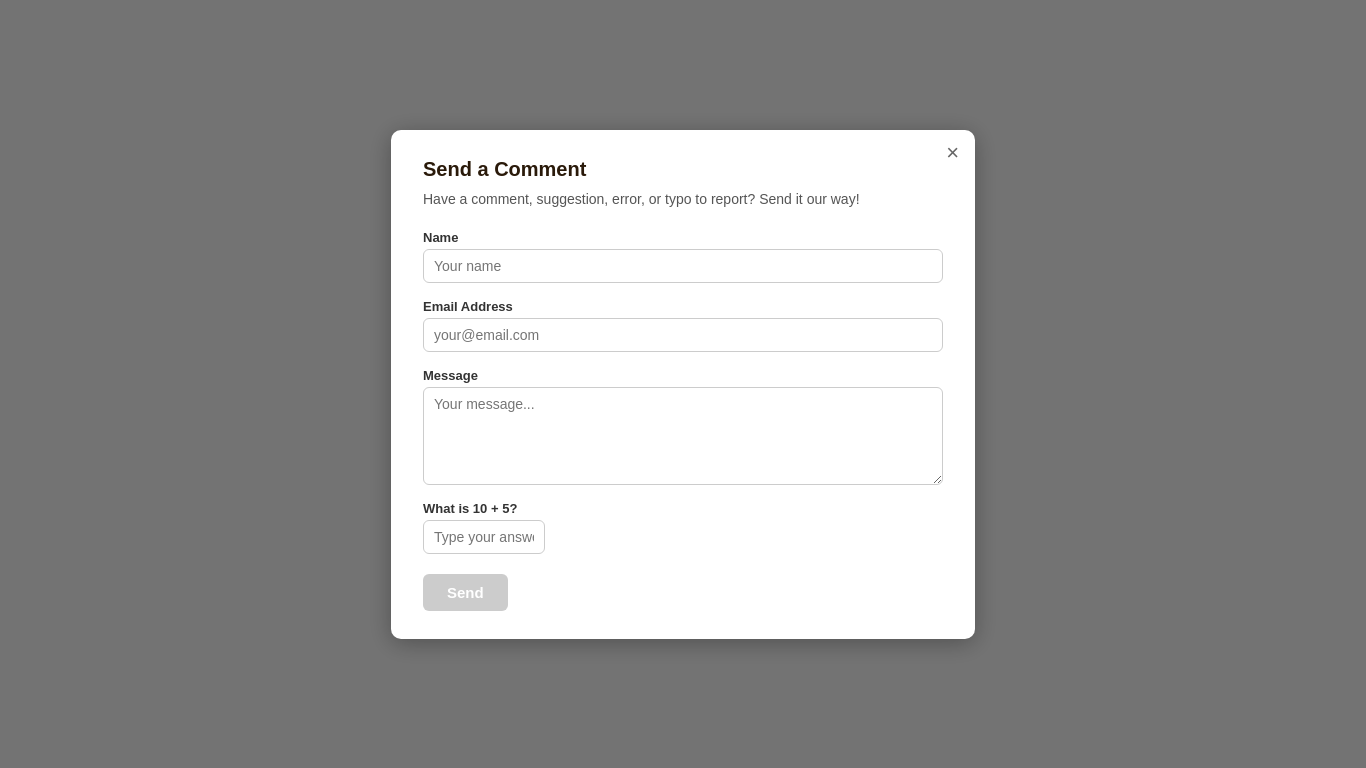
it: shows a generic error message on a failed response with no error body
The image size is (1366, 768).
Type "Drizzt" into the field labelled "Name" at x=683, y=266, box [423,248,943,282]
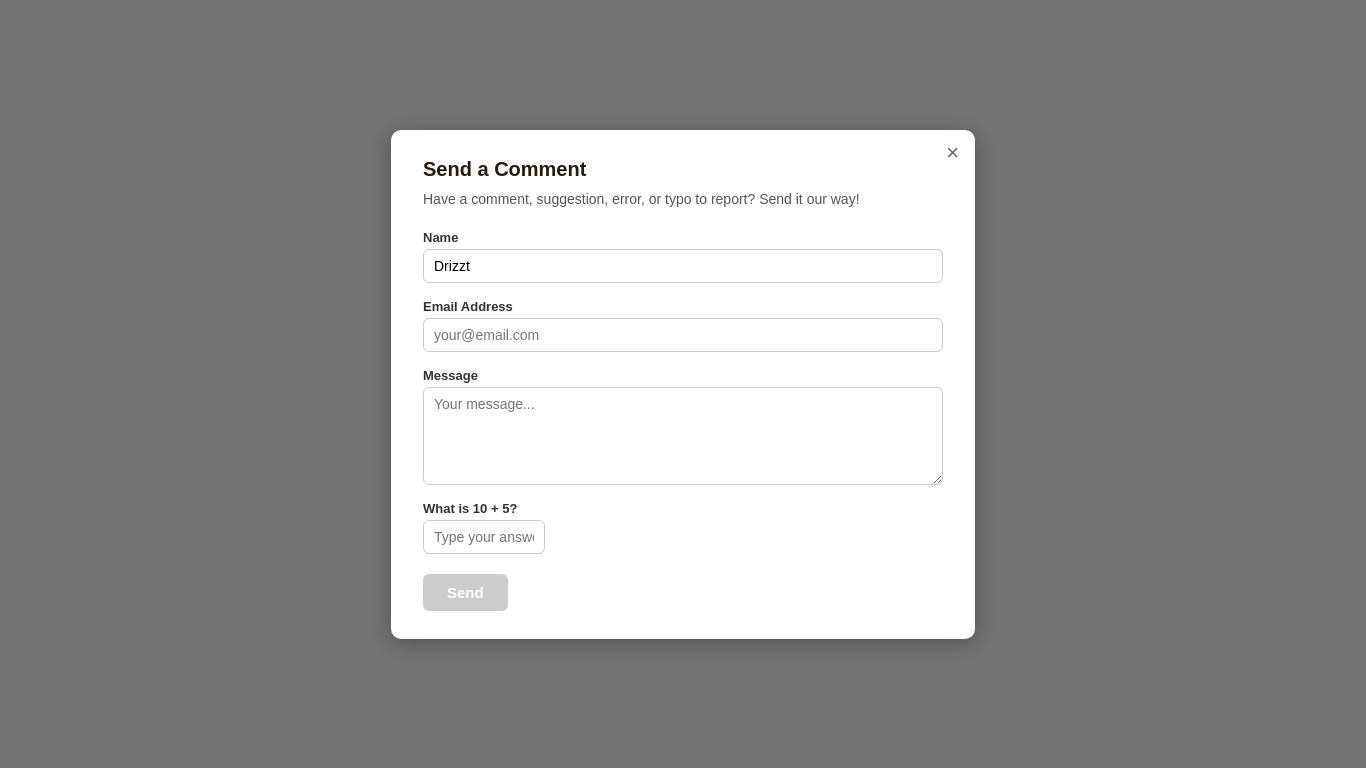
Type "drizzt@menzo.com" into the field labelled "Email Address" at x=683, y=334, box [423,318,943,352]
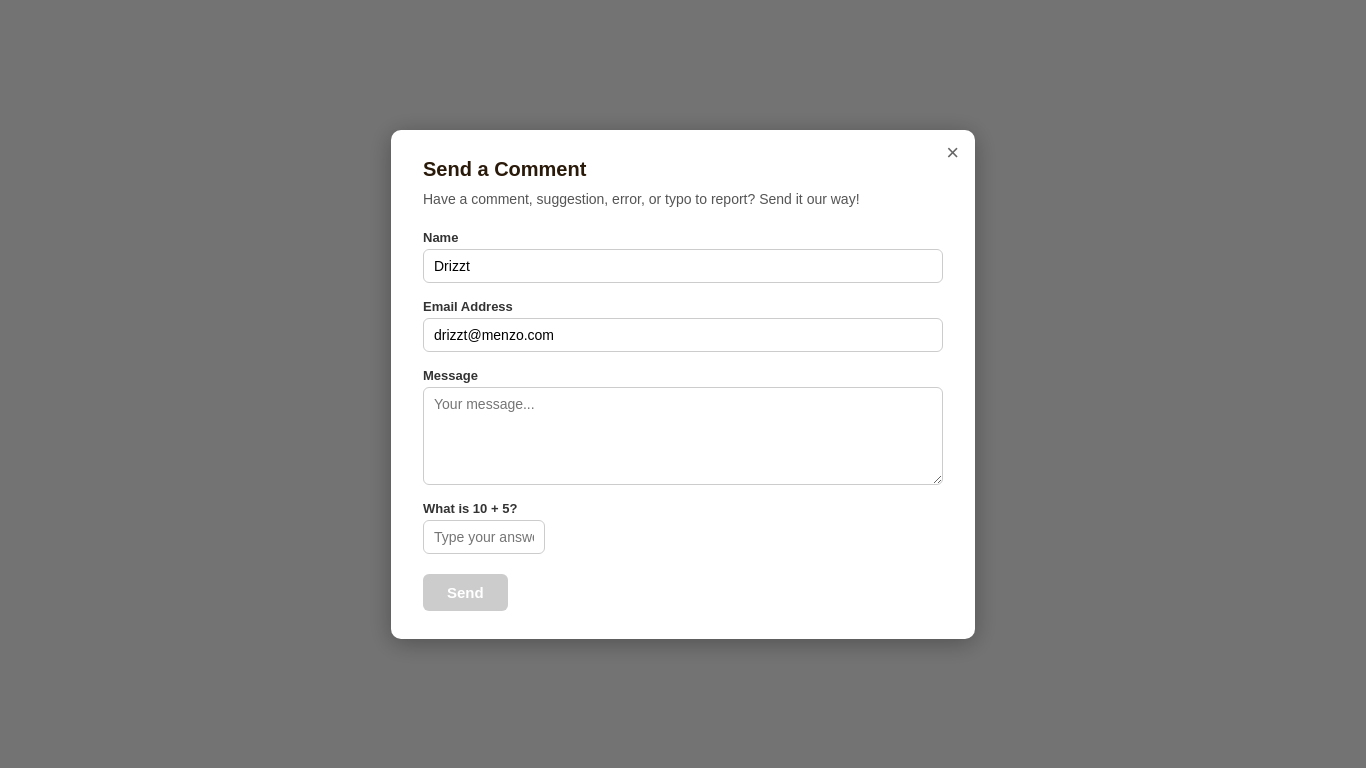
Type "Hello there" into the text box labelled "Message" at x=683, y=436, box [423,386,943,484]
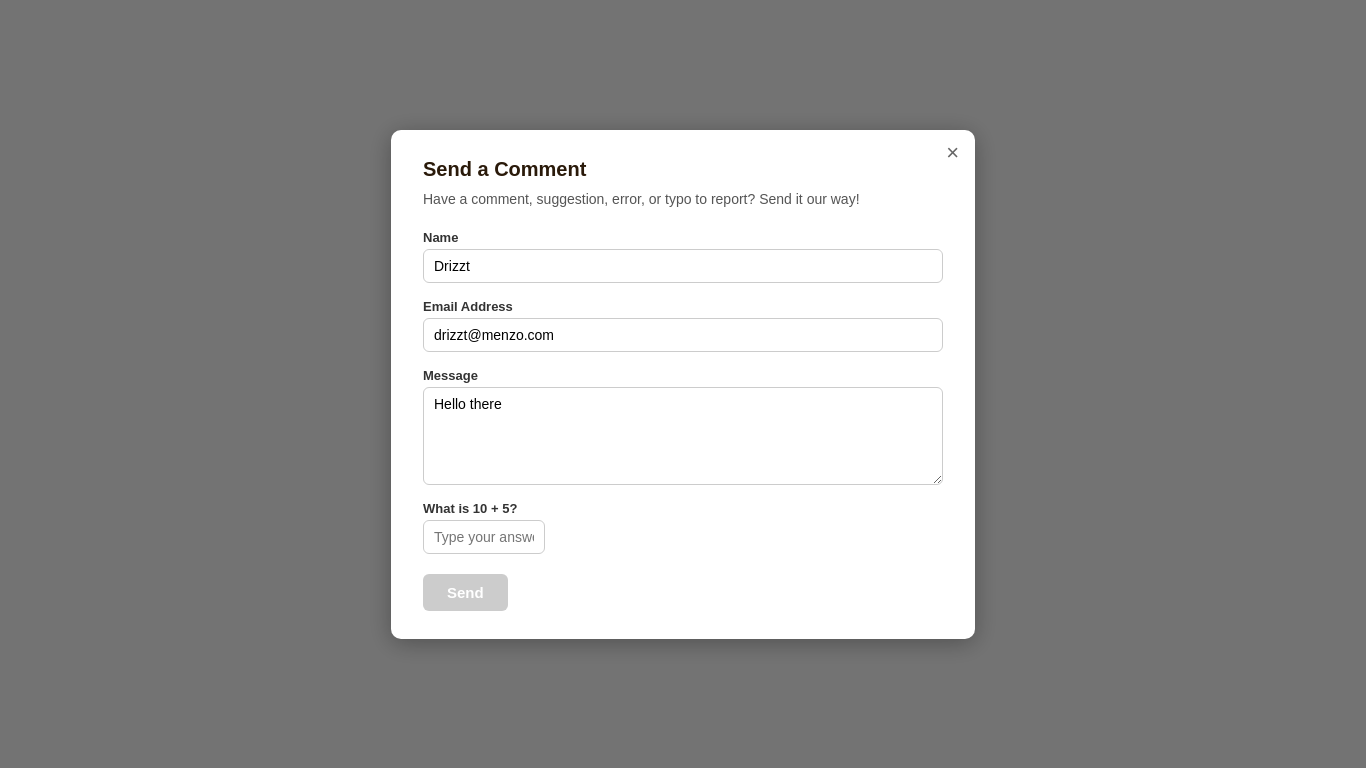
Type "15" into the field labelled "What is 10 + 5?" at x=484, y=536, box [423,520,545,554]
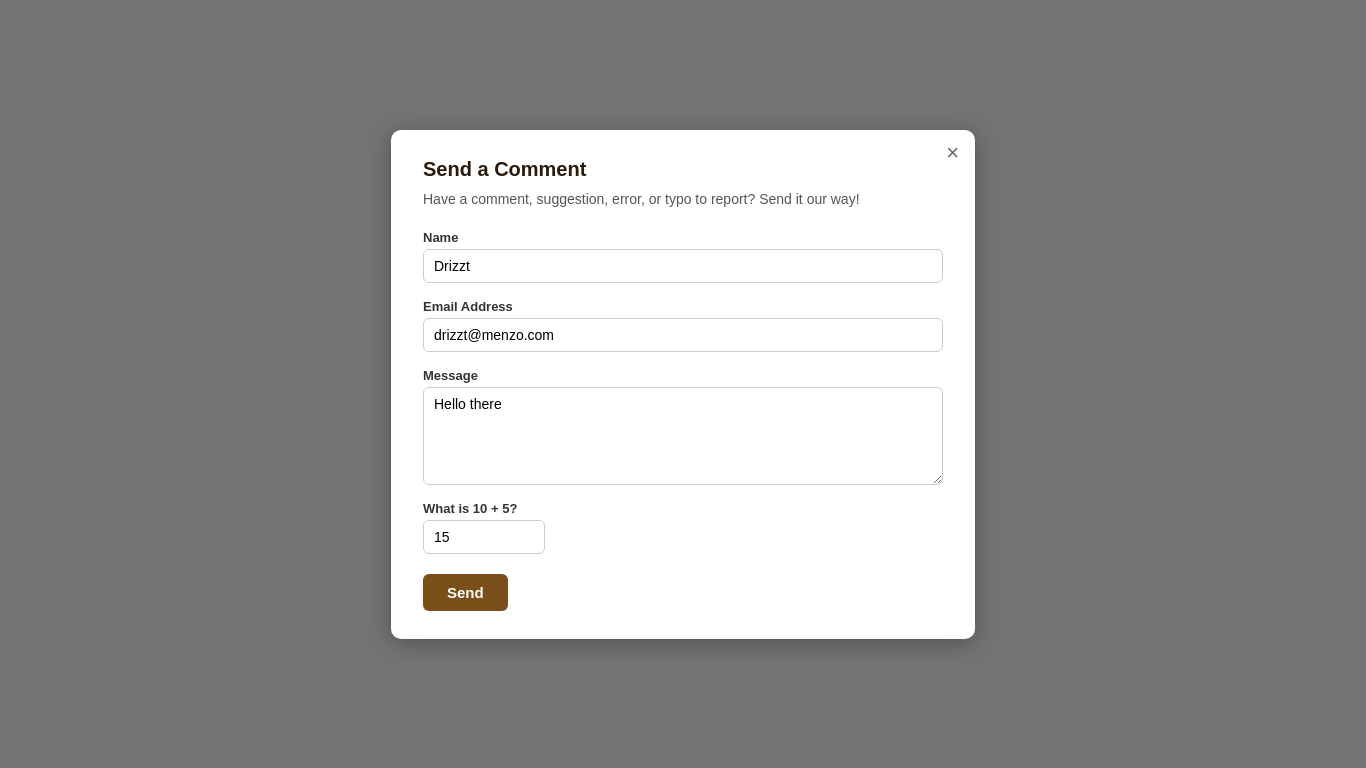
Click the button "Send" at x=465, y=592, box [423,574,508,610]
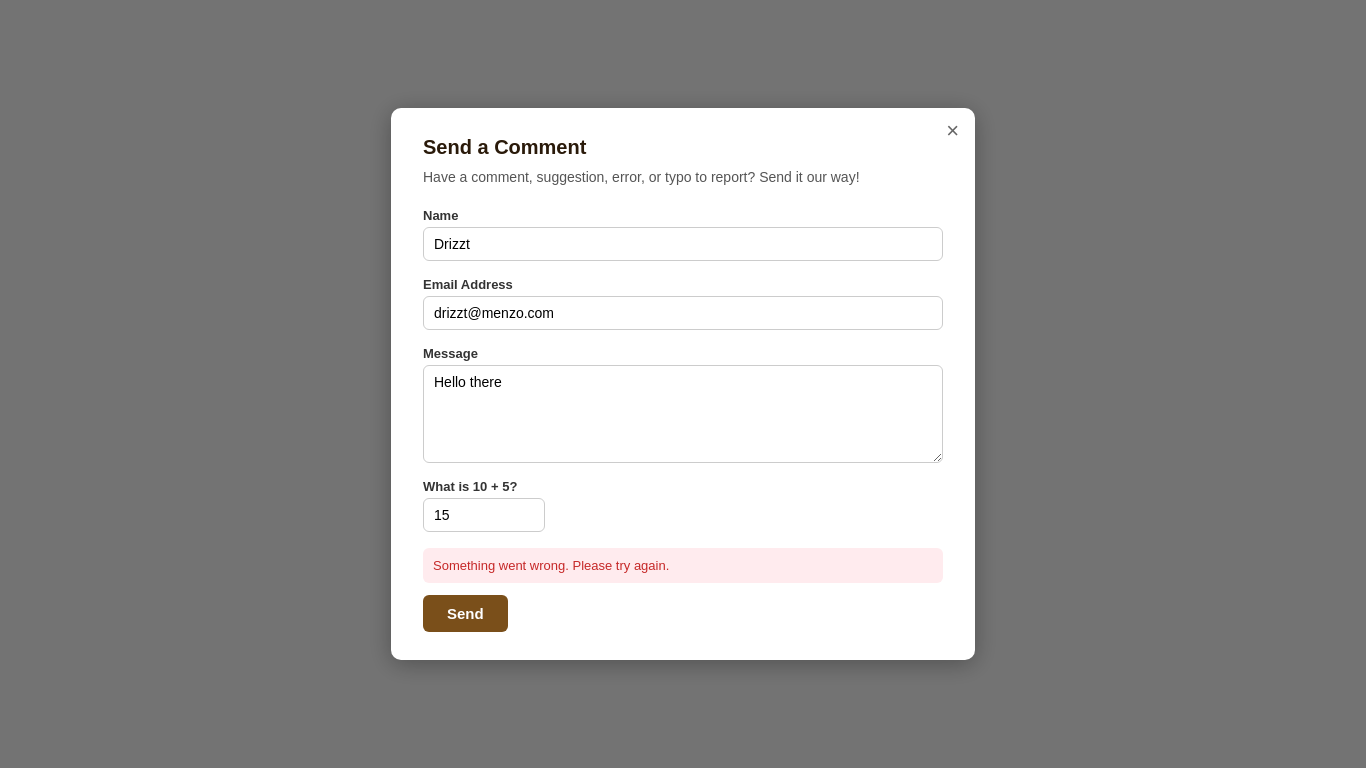
Now the text "Something went wrong. Please try again." is shown, box [423,548,943,583]
